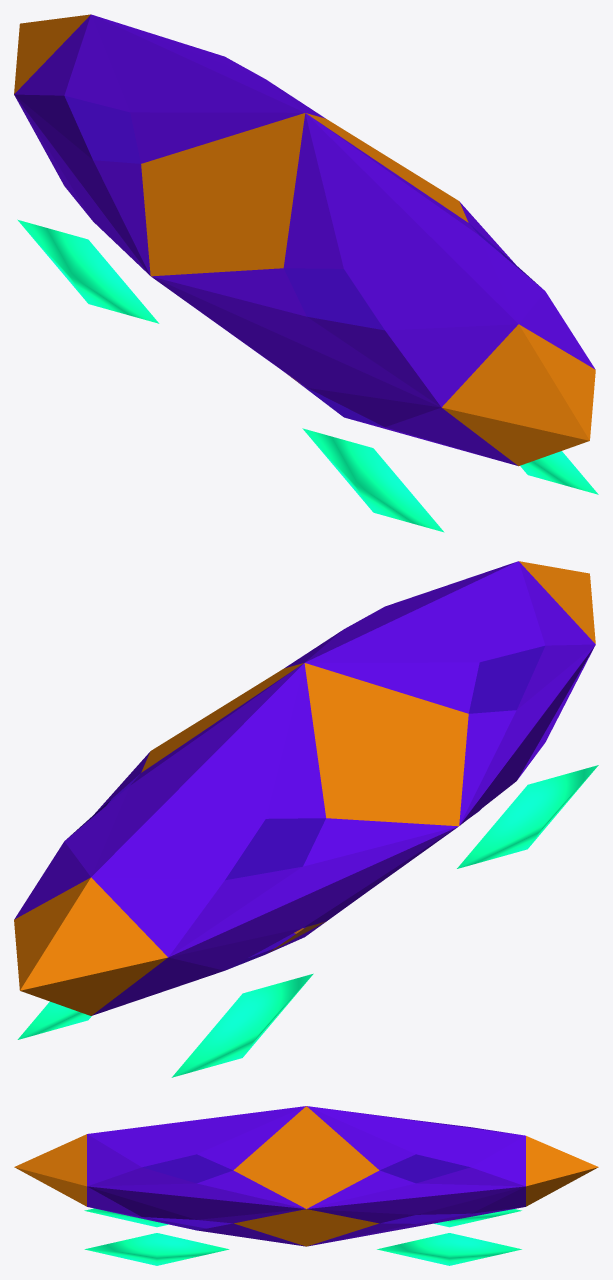
File: passengercar.glb
3 views of the same model, one above another, from view 1: azimuth 30°, elevation 25°; view 2: azimuth 150°, elevation 25°; view 3: azimuth 270°, elevation 25° (orthographic). The views are drawn at different scales.
Visible parts, largest first — view 1: train.M1.001, levi.1; view 2: train.M1.001, levi.1; view 3: train.M1.001, levi.1.
Boxes of the visible parts, box(x1,y1,x2,y2) form: train.M1.001: box(14, 14, 595, 466); levi.1: box(17, 219, 598, 532); train.M1.001: box(14, 561, 595, 1015); levi.1: box(17, 765, 598, 1077); train.M1.001: box(14, 1106, 598, 1246); levi.1: box(84, 1208, 521, 1265).
Size of the model in its own units: 5 by 4.25 by 16.
